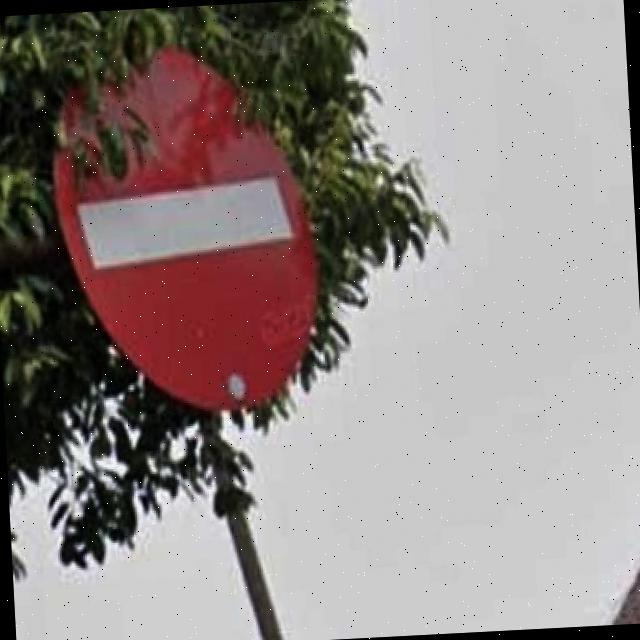Zakaz wjazdu: (48, 37, 330, 421)
